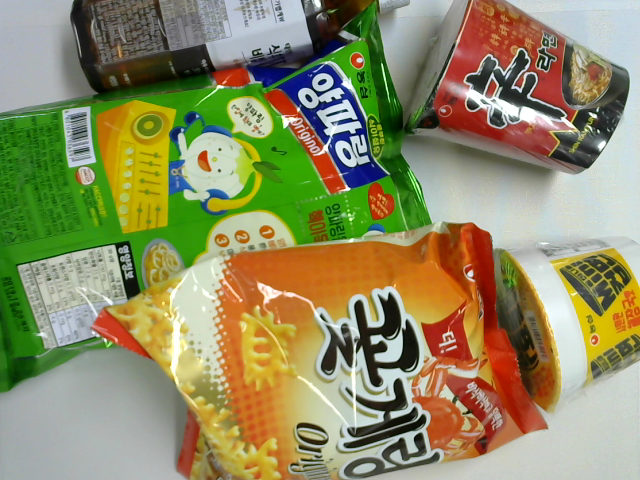Crabrang: (90, 219, 549, 479)
Hejangmini: (492, 235, 640, 415)
Oninon_Ring: (1, 1, 434, 398)
Post-meal_recipe_W_tea_500ml: (69, 1, 414, 96)
Sinramen_small: (399, 1, 632, 178)
